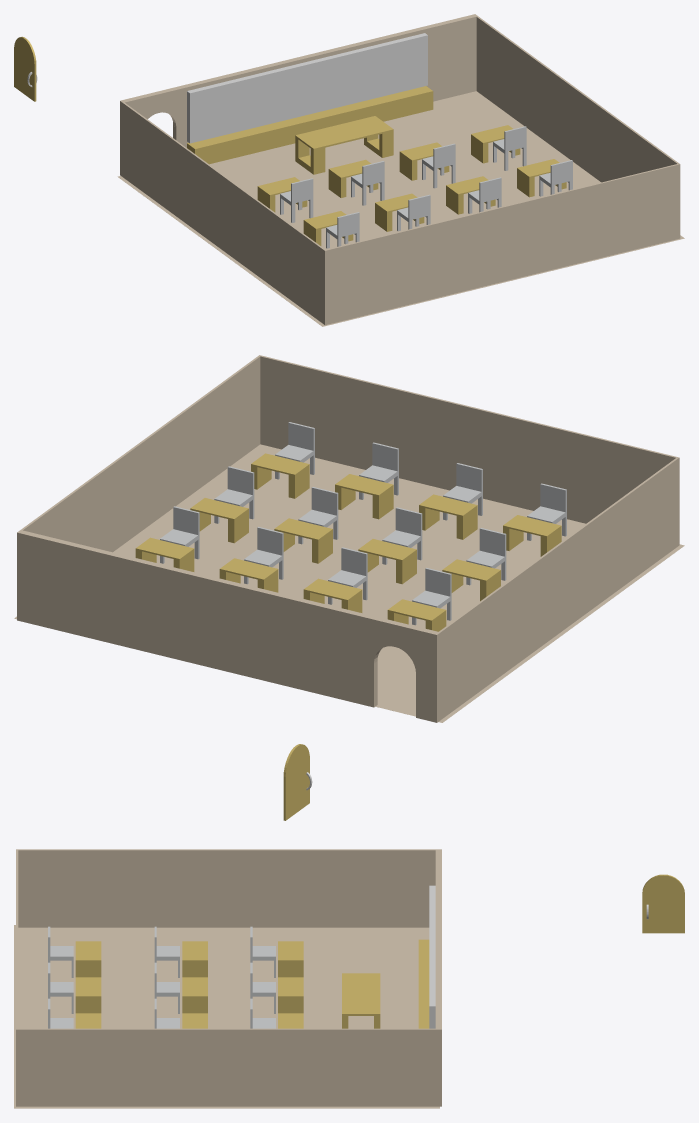
File: Classroom1.glb
The picture shows the model from 3 angles, top to bottom: view 1: azimuth 30°, elevation 25°; view 2: azimuth 150°, elevation 25°; view 3: azimuth 270°, elevation 25°; orthographic projection. The views are drawn at different scales.
Parts seen in each view (by area): view 1: Mesh_Mesh_head_geo.001_lambert2SG.001; view 2: Mesh_Mesh_head_geo.001_lambert2SG.001; view 3: Mesh_Mesh_head_geo.001_lambert2SG.001.
Boxes of the visible parts, x1,y1,x2,y2 form: Mesh_Mesh_head_geo.001_lambert2SG.001: (14, 14, 684, 326); Mesh_Mesh_head_geo.001_lambert2SG.001: (14, 355, 684, 820); Mesh_Mesh_head_geo.001_lambert2SG.001: (14, 849, 684, 1108).
Size of the model in its own units: 204 by 40 by 315.
